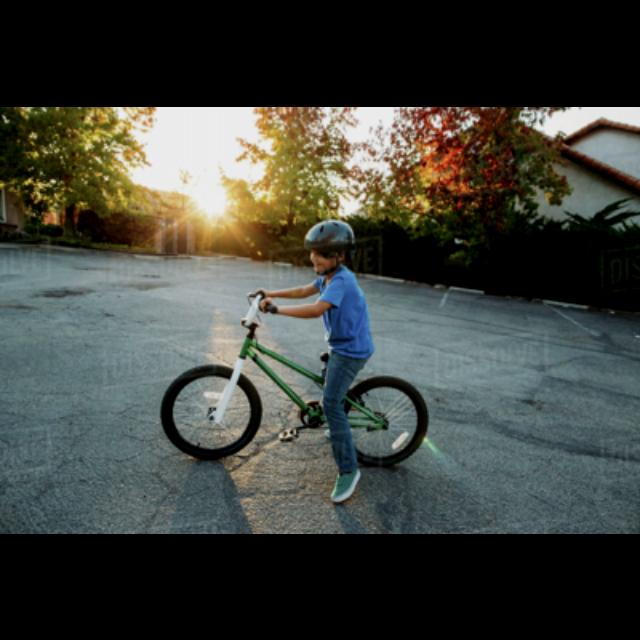With Helmet: (294, 216, 360, 278)
